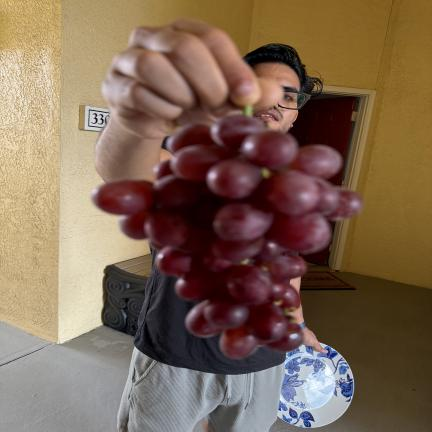grape_cluster: (92, 115, 362, 360)
